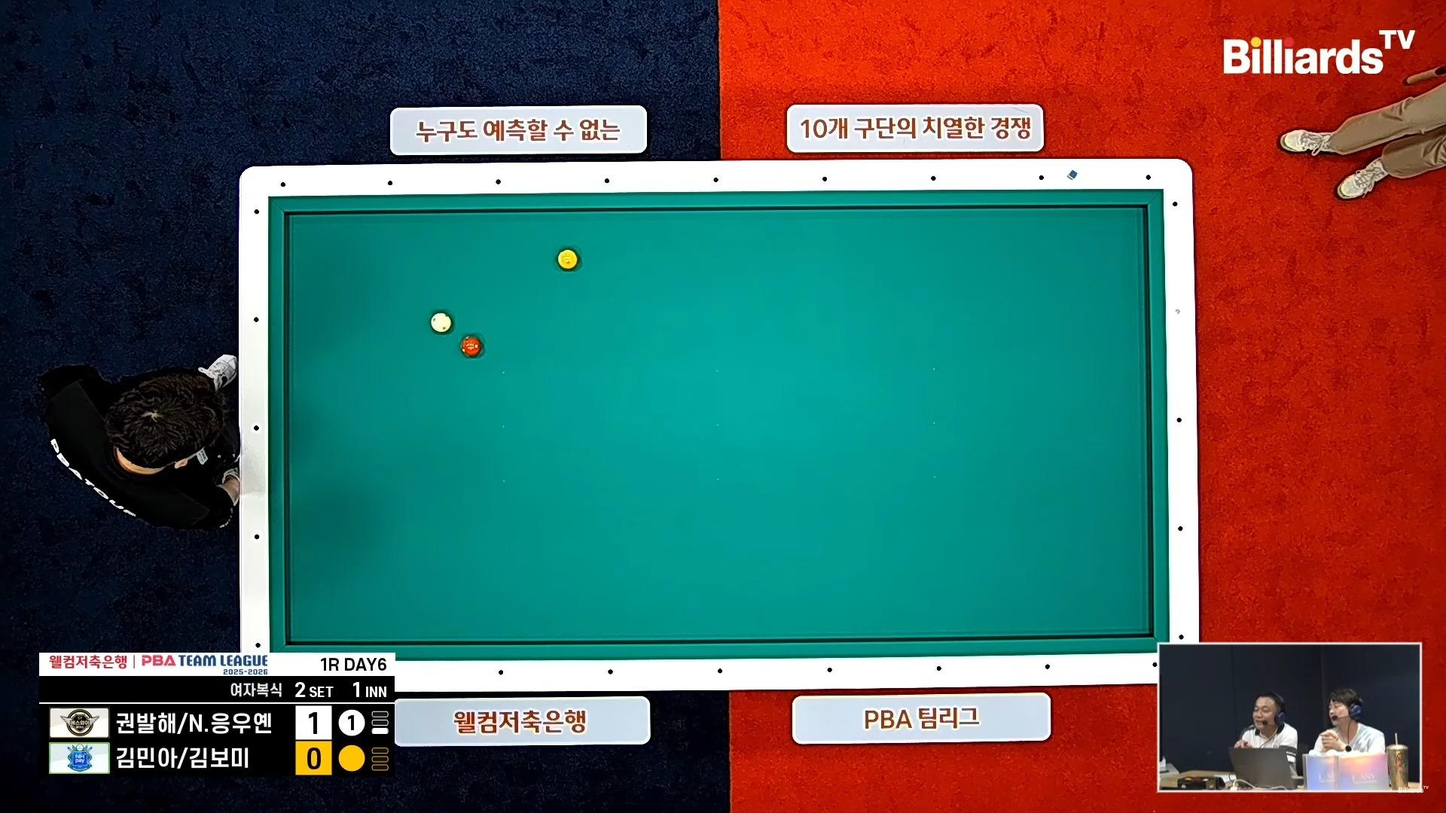billiard-ball-Red: (462, 334, 482, 358)
billiard-ball-Yellow: (558, 249, 580, 270)
billiard-ball-white: (430, 310, 453, 337)
